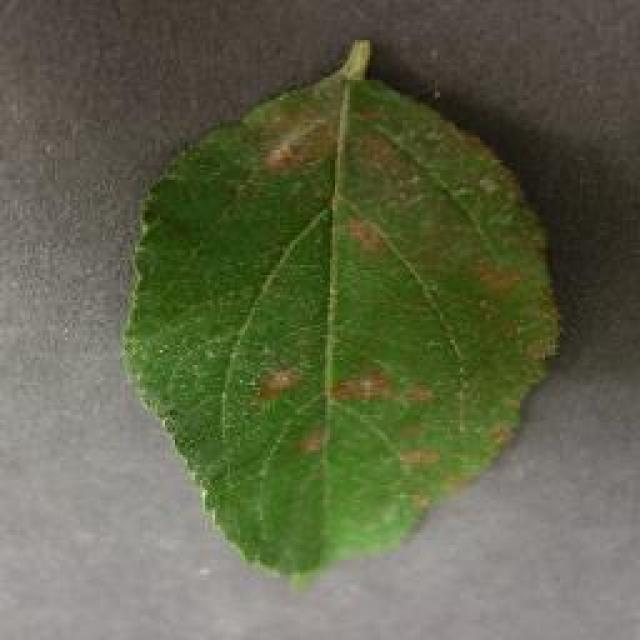apple healthy: (118, 37, 562, 585)
